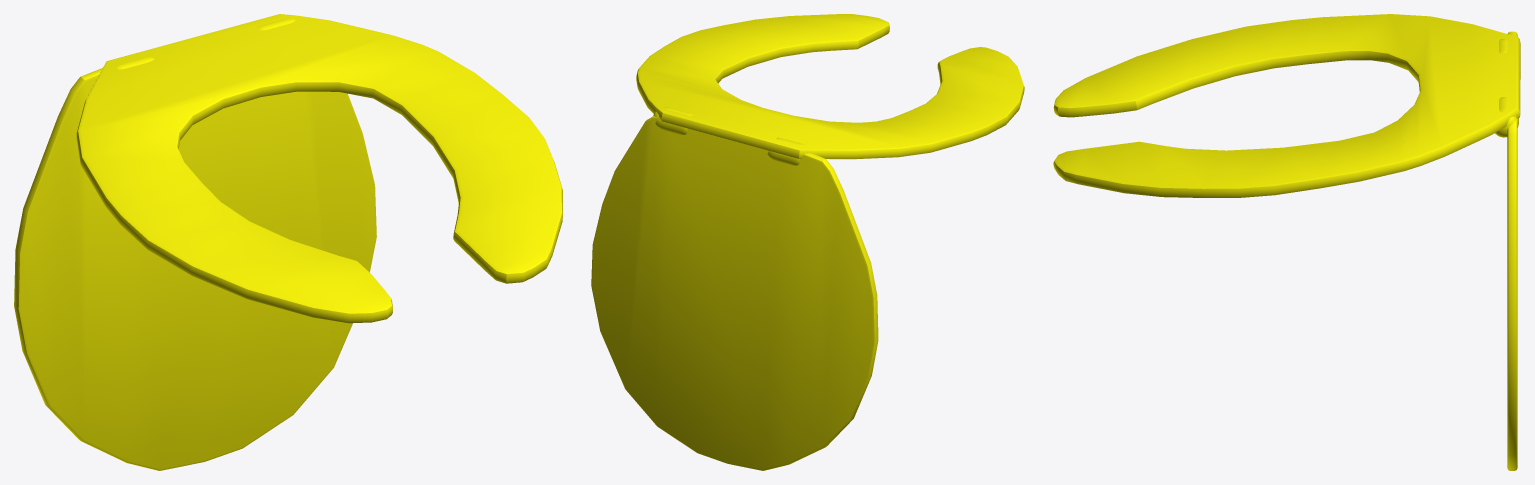
File: item-golden-toilet-seat.glb
3 renders of one model, left to right at view 1: azimuth 30°, elevation 25°; view 2: azimuth 150°, elevation 25°; view 3: azimuth 270°, elevation 25°, orthographic. The views are drawn at different scales.
Size of the model in its own units: 4.51 by 4.6 by 5.09.
